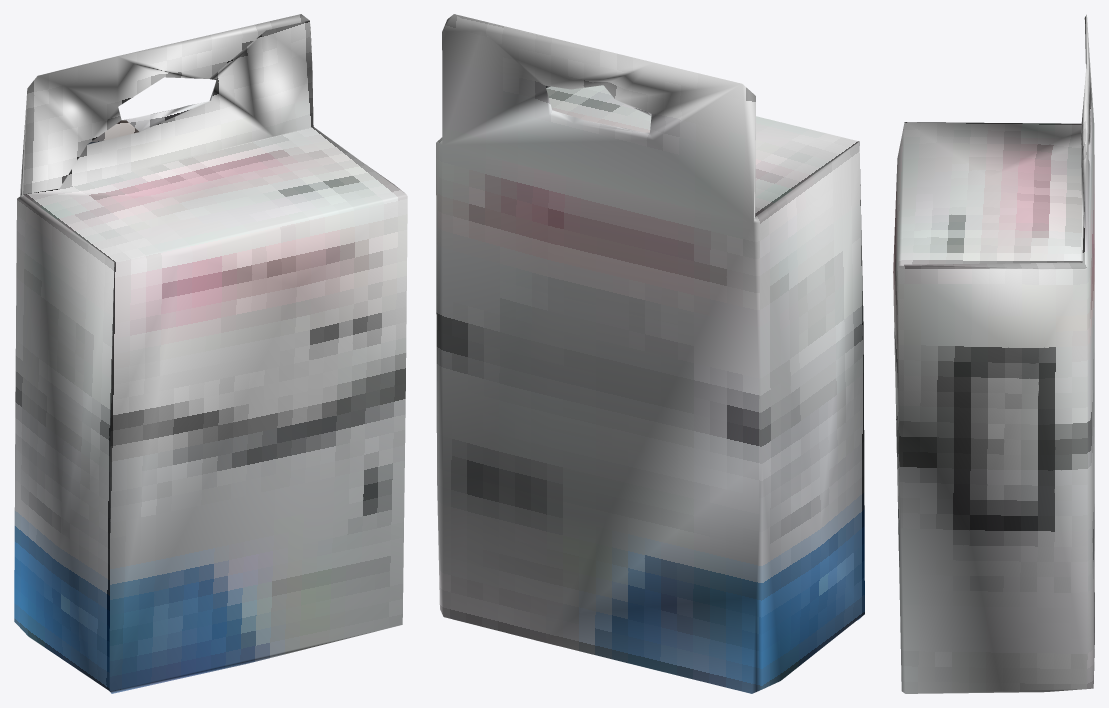
Rendered from Office_Depot_HP_96_Remanufactured_Ink_Cartridge_Black-low.glb.
The picture shows the model from 3 angles, left to right: view 1: azimuth 30°, elevation 25°; view 2: azimuth 150°, elevation 25°; view 3: azimuth 270°, elevation 25°; orthographic projection. The views are drawn at different scales.
Visible parts, largest first — view 1: Office_Depot_HP_96_Remanufactured_Ink_Cartridge_Black; view 2: Office_Depot_HP_96_Remanufactured_Ink_Cartridge_Black; view 3: Office_Depot_HP_96_Remanufactured_Ink_Cartridge_Black.
Boxes of the visible parts, <box> form: Office_Depot_HP_96_Remanufactured_Ink_Cartridge_Black: <box>14,14,407,693</box>; Office_Depot_HP_96_Remanufactured_Ink_Cartridge_Black: <box>436,14,864,693</box>; Office_Depot_HP_96_Remanufactured_Ink_Cartridge_Black: <box>893,14,1094,693</box>.
Size of the model in its own units: 0.0853 by 0.1468 by 0.0489.
1 material, 1 textured.
